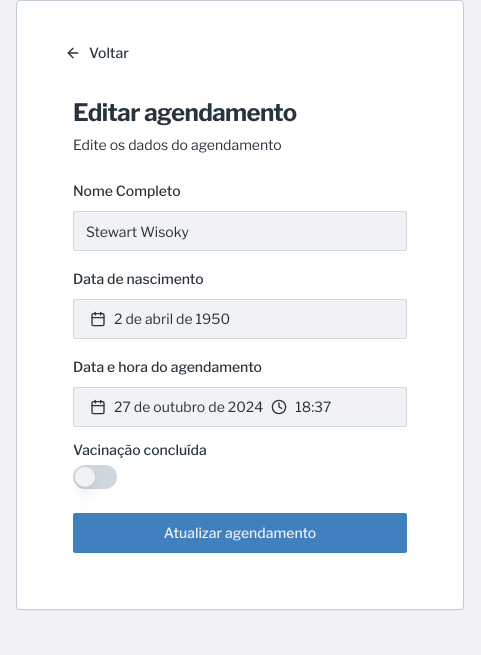
Test: <EditAppointmentForm /> › should display error messages for invalid inputs
Clear the field labelled "Nome Completo" at (240, 231), box [73, 211, 407, 251]
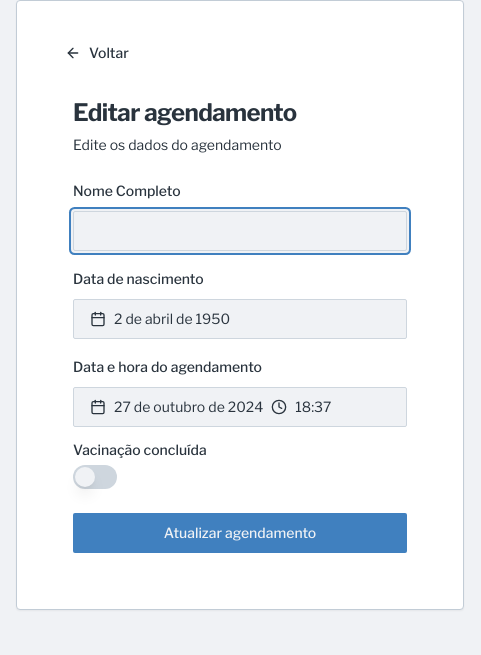
Click the button "Atualizar agendamento" at (240, 533), box [73, 513, 407, 553]
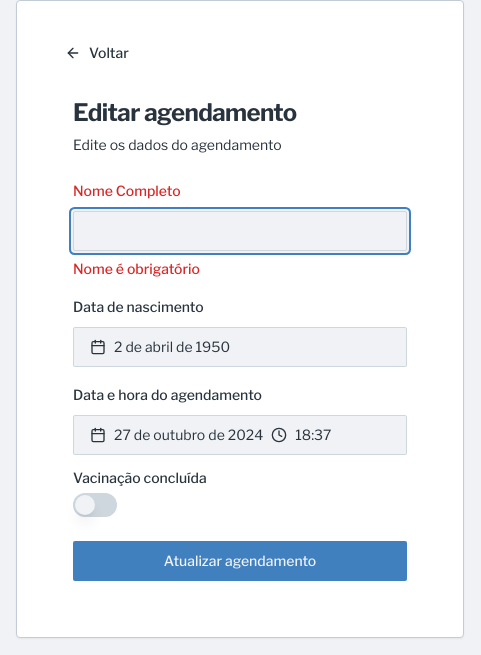
Expected: the text "Nome é obrigatório" is shown, [73, 260, 200, 277]
